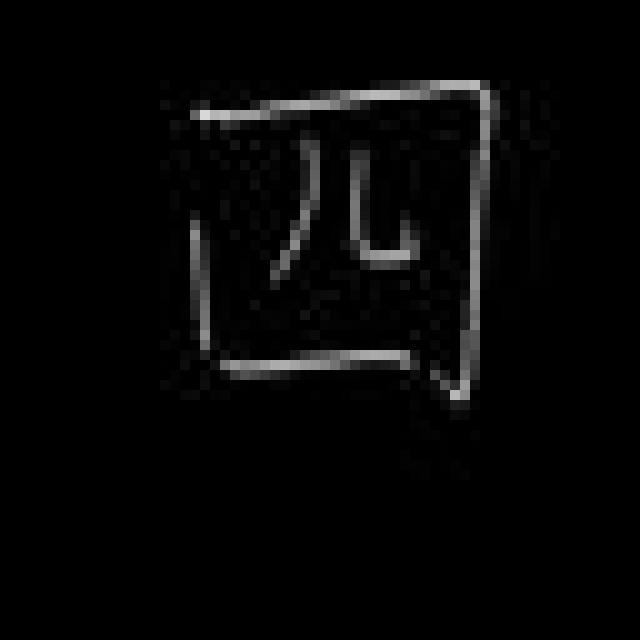4 -four-: (163, 65, 503, 405)
